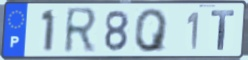1: (40, 9, 56, 53), (186, 11, 200, 51)
8: (104, 9, 130, 53)
Q: (134, 7, 170, 54)
R: (63, 6, 100, 56)
T: (210, 9, 236, 52)
